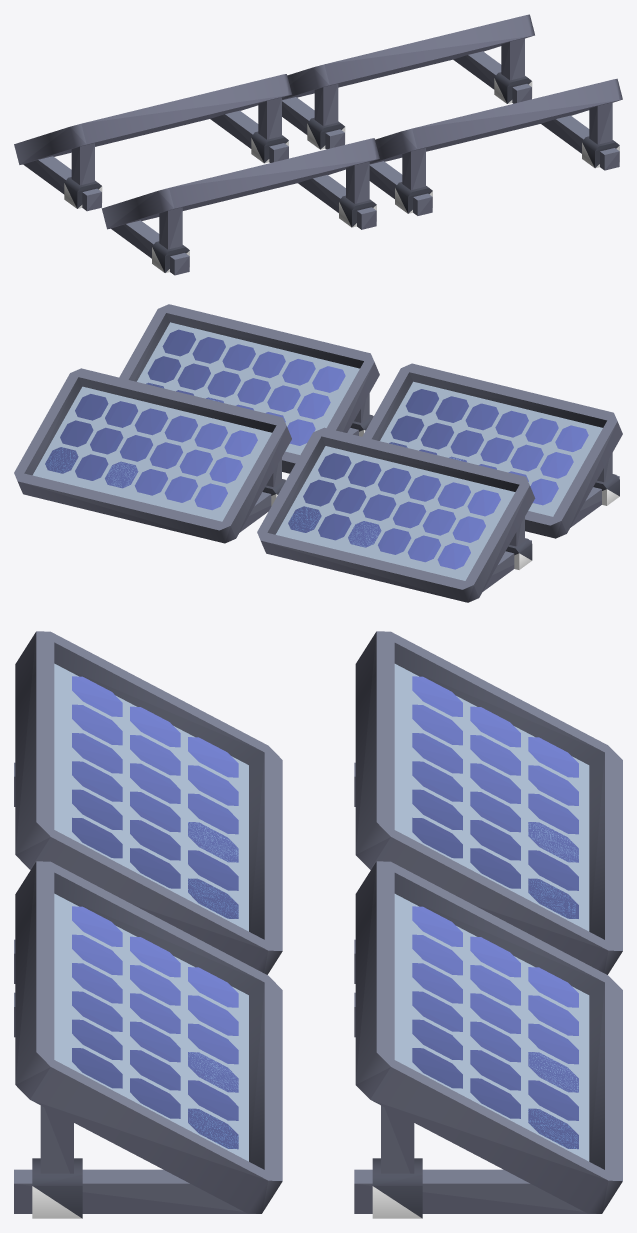
File: solar-panel-landscape-group.obj
3 renders of one model, top to bottom at view 1: azimuth 30°, elevation 25°; view 2: azimuth 150°, elevation 25°; view 3: azimuth 270°, elevation 25°, orthographic. The views are drawn at different scales.
Bounding box in the file's own units: 1.51 × 0.2624 × 0.8951.
